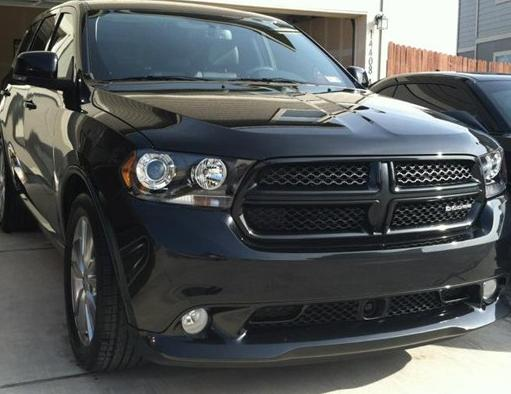front_view: (115, 122, 503, 347)
headlight: (123, 136, 264, 222)
side_glass: (15, 15, 82, 95)
